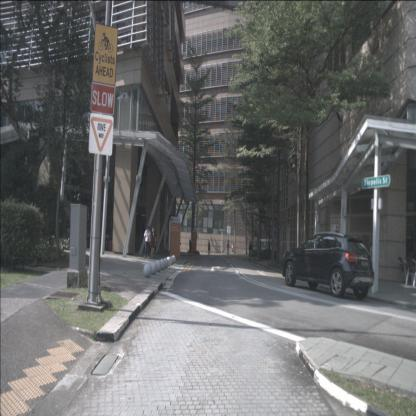human-pedestrian-adult: (144, 225, 152, 259), (151, 226, 156, 260), (249, 241, 252, 261), (226, 240, 230, 255), (208, 239, 211, 255), (189, 240, 192, 256), (231, 242, 234, 255)
vehicle-car: (282, 232, 374, 299)
